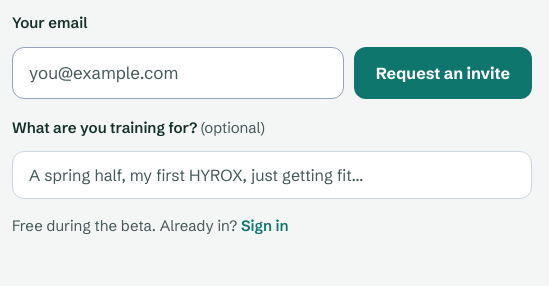
Test: client validation › rejects name without sending
Step 1. Type "name" into the field labelled "Your email" → [178, 72], box [12,46,344,98]
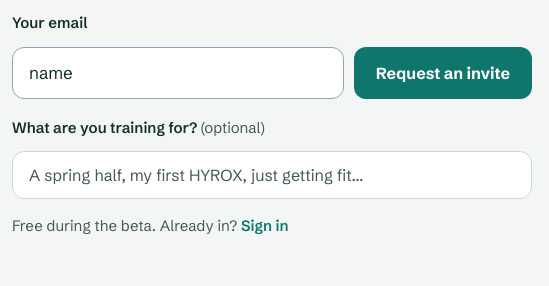
Step 2. Click the button "Request an invite" → [443, 72], box [354,46,532,98]
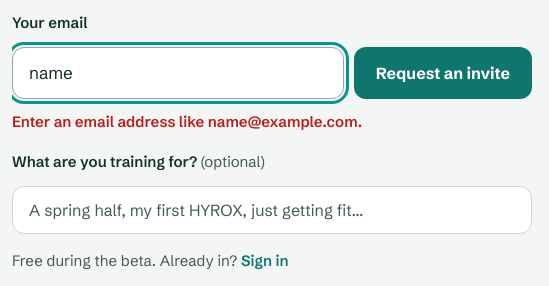
Now the text "Enter an email address like name@example.com." is shown, box [12,112,362,130]
